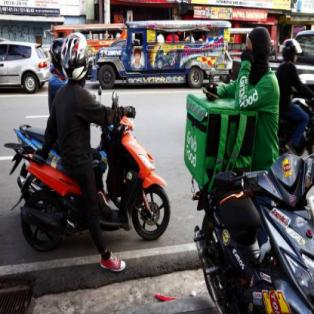Motocicleta: (17, 115, 171, 247), (197, 162, 314, 313)
